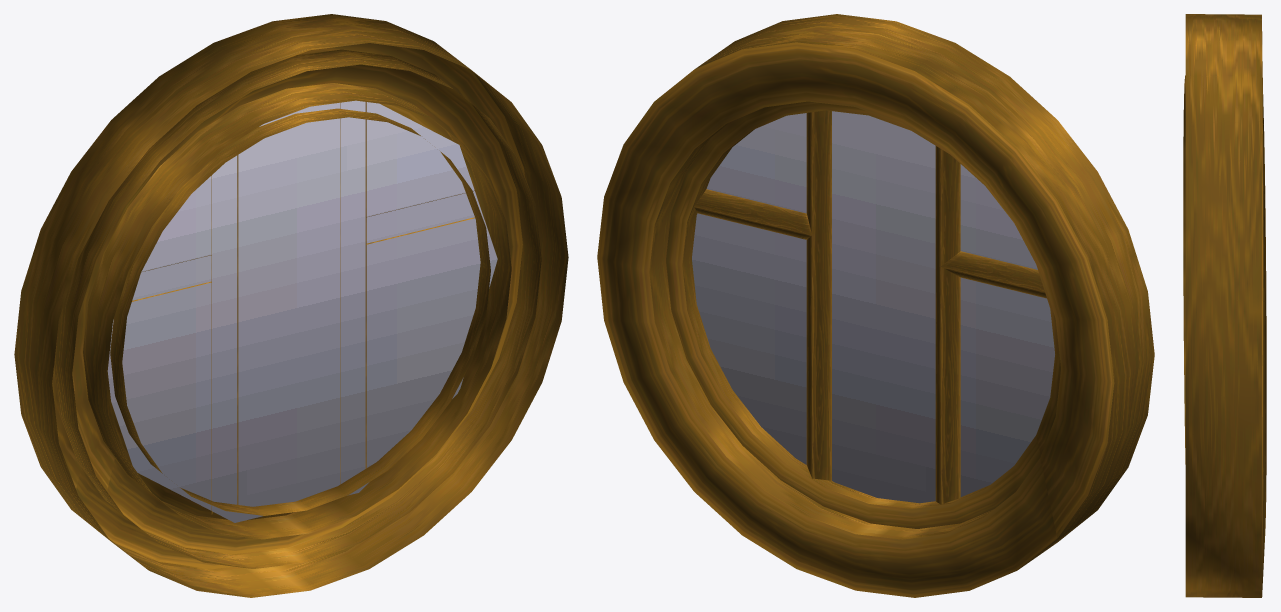
Rendered from INST_HTOWN_WINDOWA.fbx.
The picture shows the model from 3 angles, left to right: view 1: azimuth 30°, elevation 25°; view 2: azimuth 150°, elevation 25°; view 3: azimuth 270°, elevation 25°; orthographic projection. The views are drawn at different scales.
Visible parts, largest first — view 1: INST_HTOWN_WINDOWA; view 2: INST_HTOWN_WINDOWA; view 3: INST_HTOWN_WINDOWA.
Part boxes in pixels (x1=…): INST_HTOWN_WINDOWA: x1=14, y1=14, x2=568, y2=597; INST_HTOWN_WINDOWA: x1=597, y1=14, x2=1154, y2=597; INST_HTOWN_WINDOWA: x1=1183, y1=14, x2=1266, y2=597.
Bounding box in the file's own units: 9169 × 9145 × 1310.
Materials: 3 (3 with a texture image).
